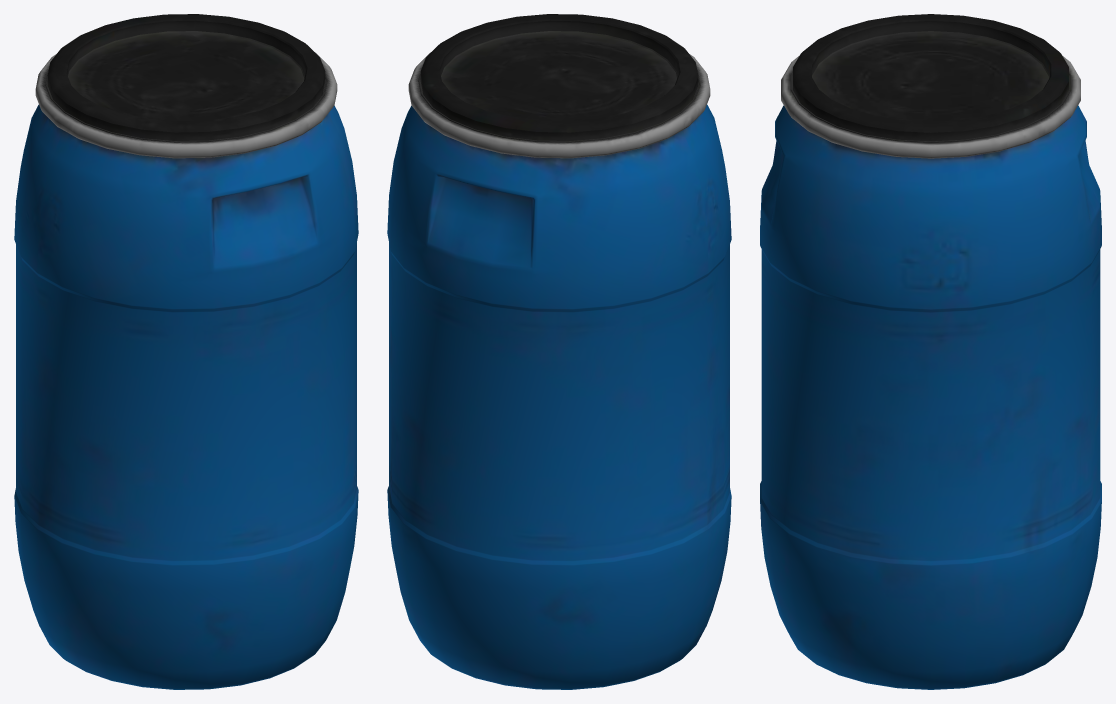
The model's file is Barrel_02.gltf.
3 renders of one model, left to right at view 1: azimuth 30°, elevation 25°; view 2: azimuth 150°, elevation 25°; view 3: azimuth 270°, elevation 25°, orthographic.
Parts seen in each view (by area): view 1: Barrel_02; view 2: Barrel_02; view 3: Barrel_02.
Boxes of the visible parts, <box> form: Barrel_02: <box>14,14,358,689</box>; Barrel_02: <box>387,14,731,689</box>; Barrel_02: <box>760,14,1101,689</box>.
Size of the model in its own units: 0.4882 by 0.88 by 0.4846.
1 material, 1 textured.
